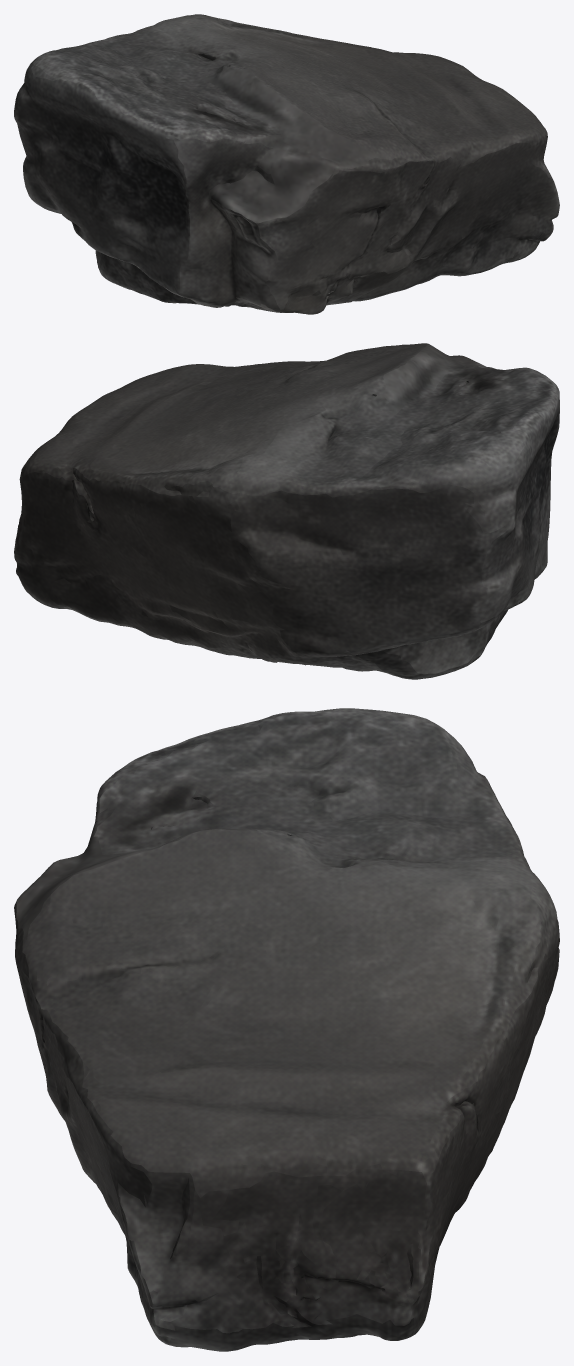
The picture shows the model from 3 angles, top to bottom: view 1: azimuth 30°, elevation 25°; view 2: azimuth 150°, elevation 25°; view 3: azimuth 270°, elevation 25°; orthographic projection. The views are drawn at different scales.
Visible parts, largest first — view 1: world; view 2: world; view 3: world.
Part boxes in pixels (x1,y1,x2,y2): world: [14, 14, 559, 314]; world: [14, 343, 559, 679]; world: [14, 708, 559, 1351].
Size of the model in its own units: 3.5 by 1.77 by 2.49.
1 material, 1 textured.
